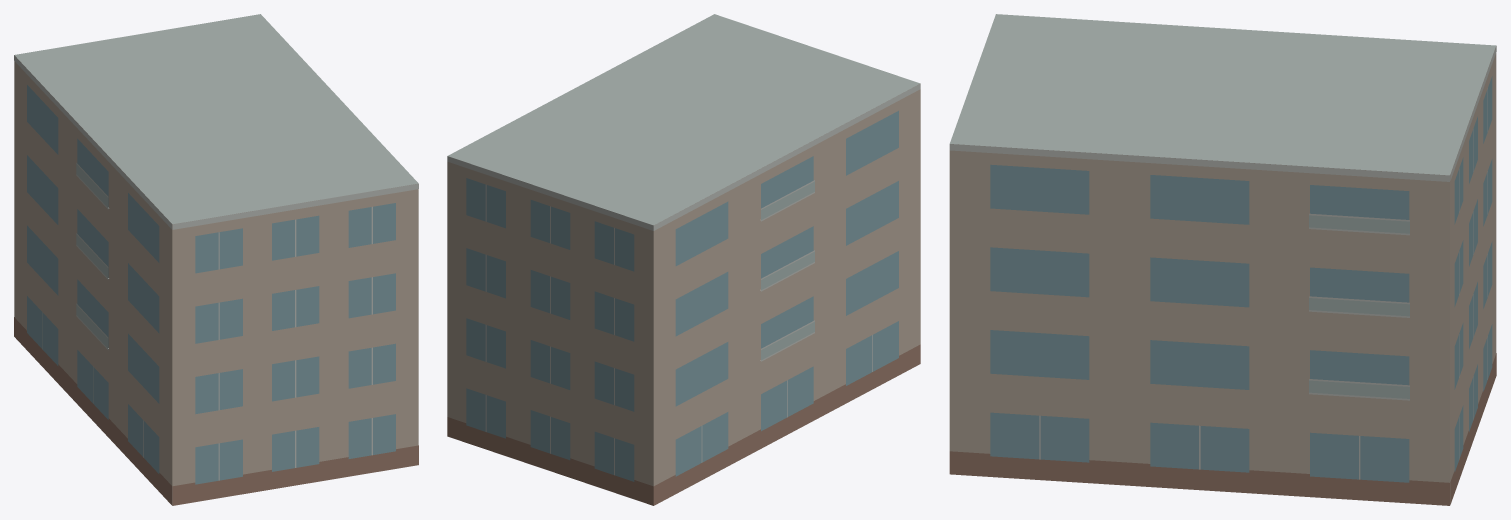
Rendered from survey-upis-32803345.glb.
3 views of the same model, side by side, from view 1: azimuth 30°, elevation 25°; view 2: azimuth 150°, elevation 25°; view 3: azimuth 270°, elevation 25° (orthographic). The views are drawn at different scales.
Visible parts, largest first — view 1: survey-upis-32803345.tmp; view 2: survey-upis-32803345.tmp; view 3: survey-upis-32803345.tmp.
Part boxes in pixels (x1,y1,x2,y2): survey-upis-32803345.tmp: (14,14,418,505); survey-upis-32803345.tmp: (447,14,920,505); survey-upis-32803345.tmp: (949,14,1496,505).
Size of the model in its own units: 12.79 by 12.2 by 18.3.
